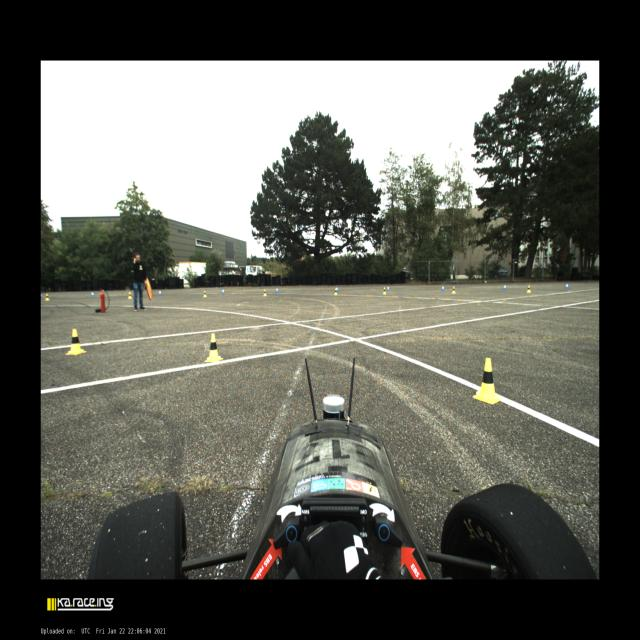blue_cone: (91, 290, 95, 297), (159, 289, 162, 296), (387, 285, 390, 291), (503, 284, 506, 290), (335, 286, 338, 292), (222, 288, 224, 294), (276, 287, 278, 293), (442, 285, 444, 291), (566, 283, 568, 289)
yellow_cone: (472, 358, 502, 404), (204, 333, 222, 363), (66, 329, 86, 355), (45, 294, 50, 301), (333, 288, 338, 295), (527, 285, 531, 293), (452, 286, 456, 294), (263, 289, 267, 297), (203, 290, 207, 298), (128, 292, 132, 300), (383, 287, 386, 295)
